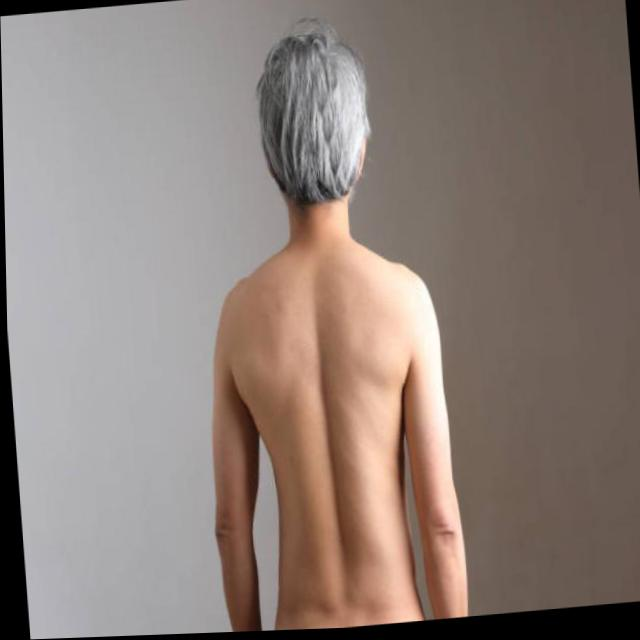no helmet: (245, 26, 391, 253)
